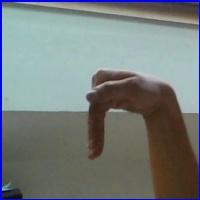A: (81, 63, 181, 168)
